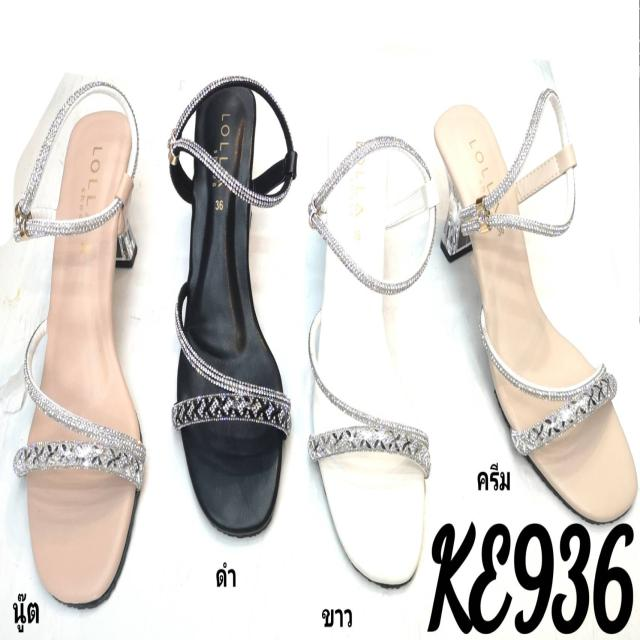black: (176, 80, 282, 526)
cream: (433, 102, 640, 521)
nood: (25, 110, 153, 602)
white: (315, 116, 432, 586)
